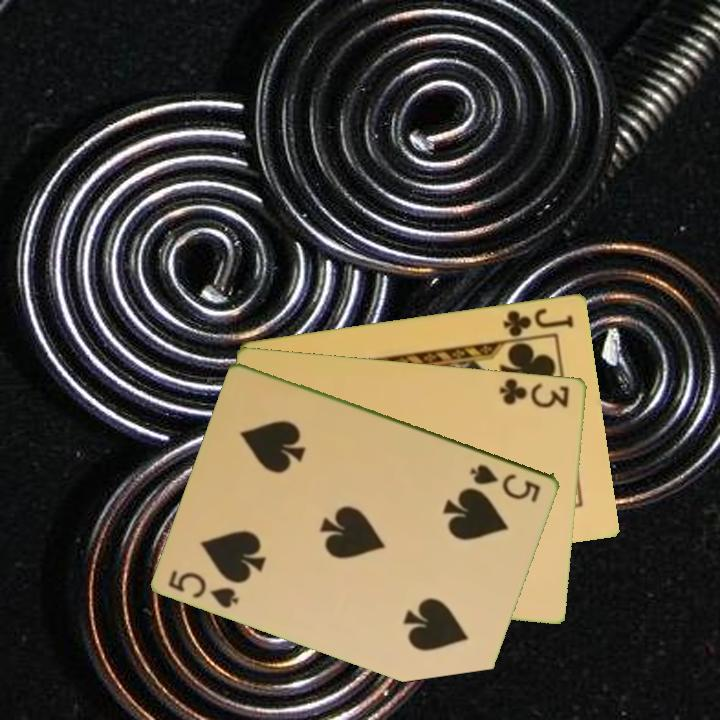3c: (496, 374, 573, 411)
5s: (466, 460, 544, 505), (165, 566, 242, 611)
Jc: (499, 304, 577, 339)
